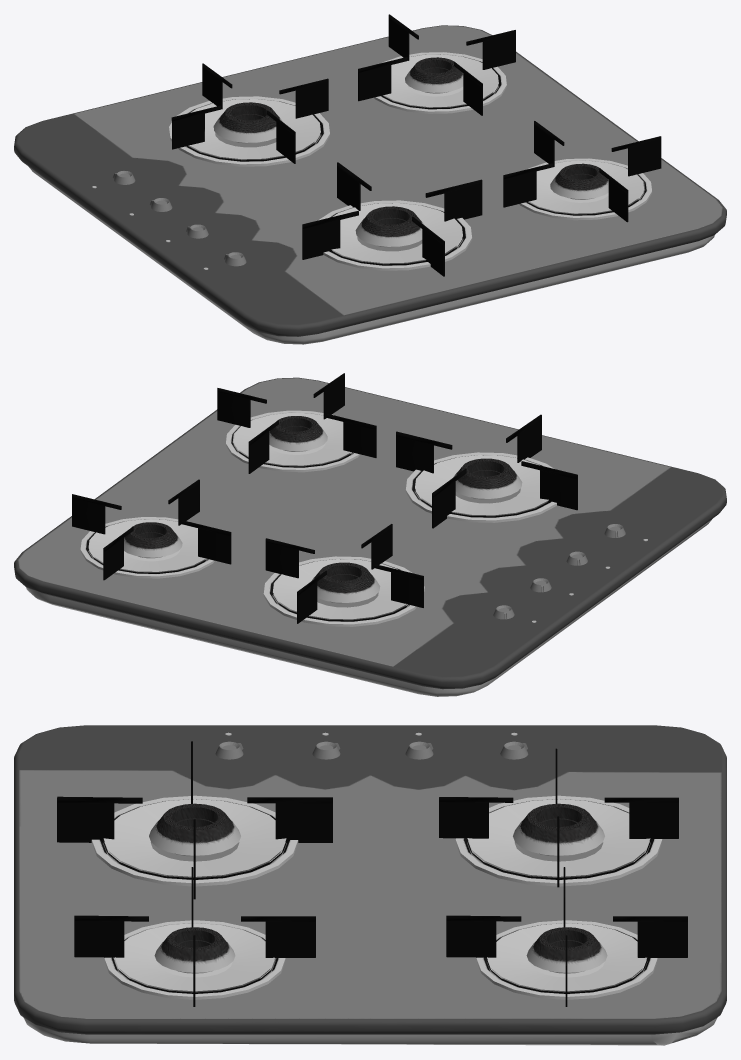
Rendered from gas_stove.glb.
3 views of the same model, one above another, from view 1: azimuth 30°, elevation 25°; view 2: azimuth 150°, elevation 25°; view 3: azimuth 270°, elevation 25° (orthographic). The views are drawn at different scales.
Visible parts, largest first — view 1: pCylinder9; view 2: pCylinder9; view 3: pCylinder9.
Boxes of the visible parts, left/top/right/bottom form: pCylinder9: left=14, top=14, right=726, bottom=344; pCylinder9: left=14, top=373, right=726, bottom=696; pCylinder9: left=14, top=725, right=726, bottom=1045.
Size of the model in its own units: 0.5727 by 0.0683 by 0.5799.
Materials: 1 (1 with a texture image).
